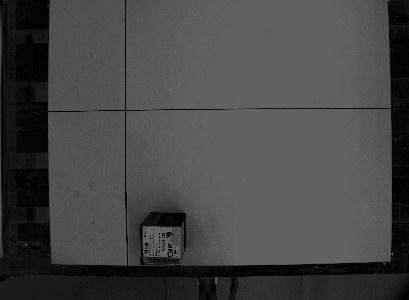b4: (137, 209, 189, 266)
